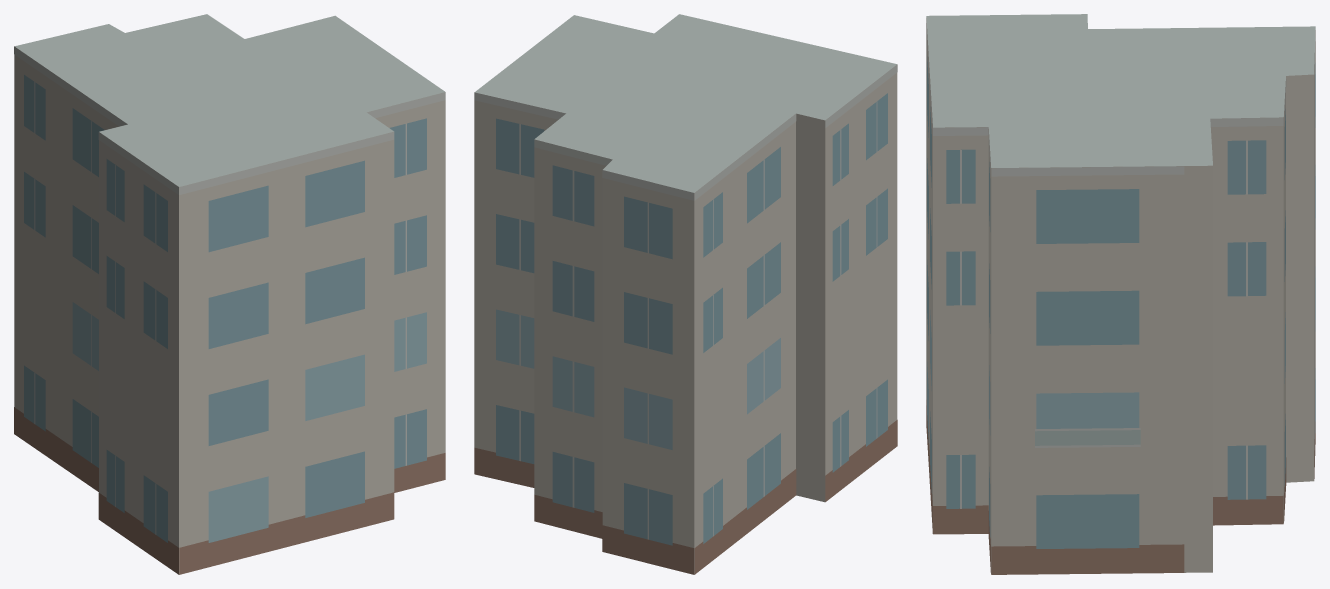
Rendered from survey-upis-32902623.glb.
3 views of the same model, side by side, from view 1: azimuth 30°, elevation 25°; view 2: azimuth 150°, elevation 25°; view 3: azimuth 270°, elevation 25° (orthographic). The views are drawn at different scales.
Visible parts, largest first — view 1: survey-upis-32902623.tmp; view 2: survey-upis-32902623.tmp; view 3: survey-upis-32902623.tmp.
Part boxes in pixels (x1,y1,x2,y2): survey-upis-32902623.tmp: [14, 14, 445, 574]; survey-upis-32902623.tmp: [474, 14, 897, 574]; survey-upis-32902623.tmp: [926, 14, 1315, 574].
Size of the model in its own units: 9.52 by 11.7 by 10.16.
